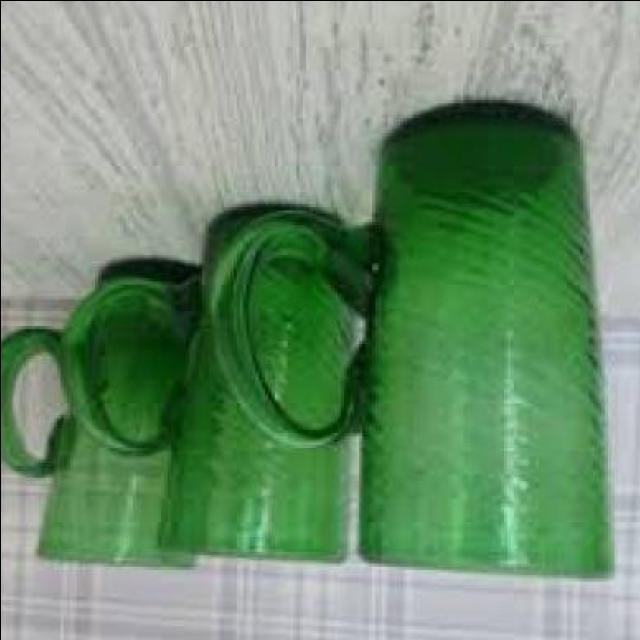kaca: (204, 102, 610, 581), (53, 210, 350, 562), (0, 266, 195, 572)
